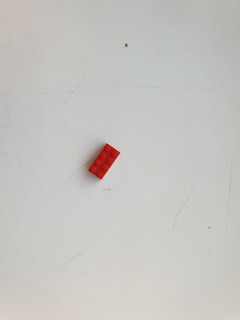2x4 red: (88, 143, 121, 180)
